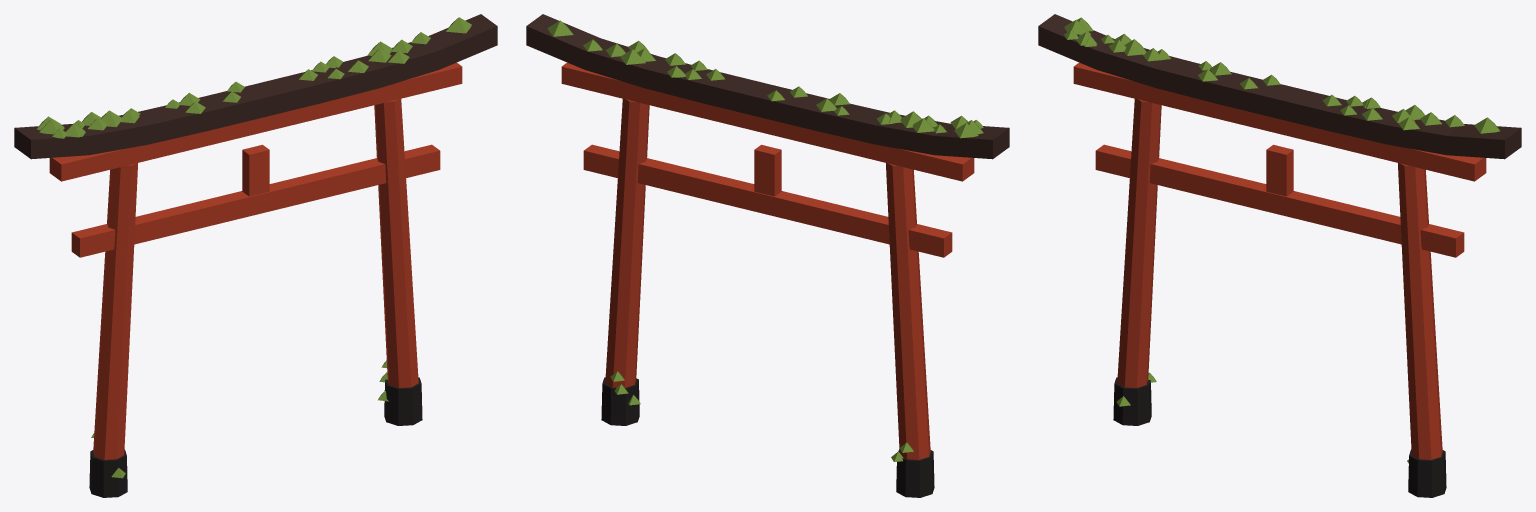
The model's file is torii.glb.
3 views of the same model, side by side, from view 1: azimuth 30°, elevation 25°; view 2: azimuth 150°, elevation 25°; view 3: azimuth 330°, elevation 25° (orthographic).
Parts seen in each view (by area): view 1: Torii; view 2: Torii; view 3: Torii.
Boxes of the visible parts, left/top/right/bottom form: Torii: left=14, top=14, right=497, bottom=497; Torii: left=526, top=14, right=1009, bottom=497; Torii: left=1038, top=14, right=1521, bottom=497.
Bounding box in the file's own units: 1.14 × 0.8991 × 0.1159.
